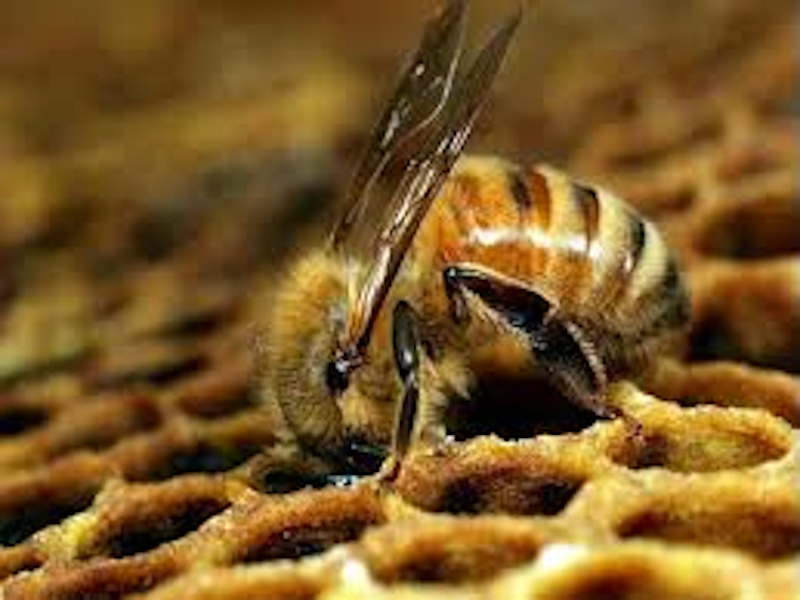abeja: (251, 12, 745, 529)
